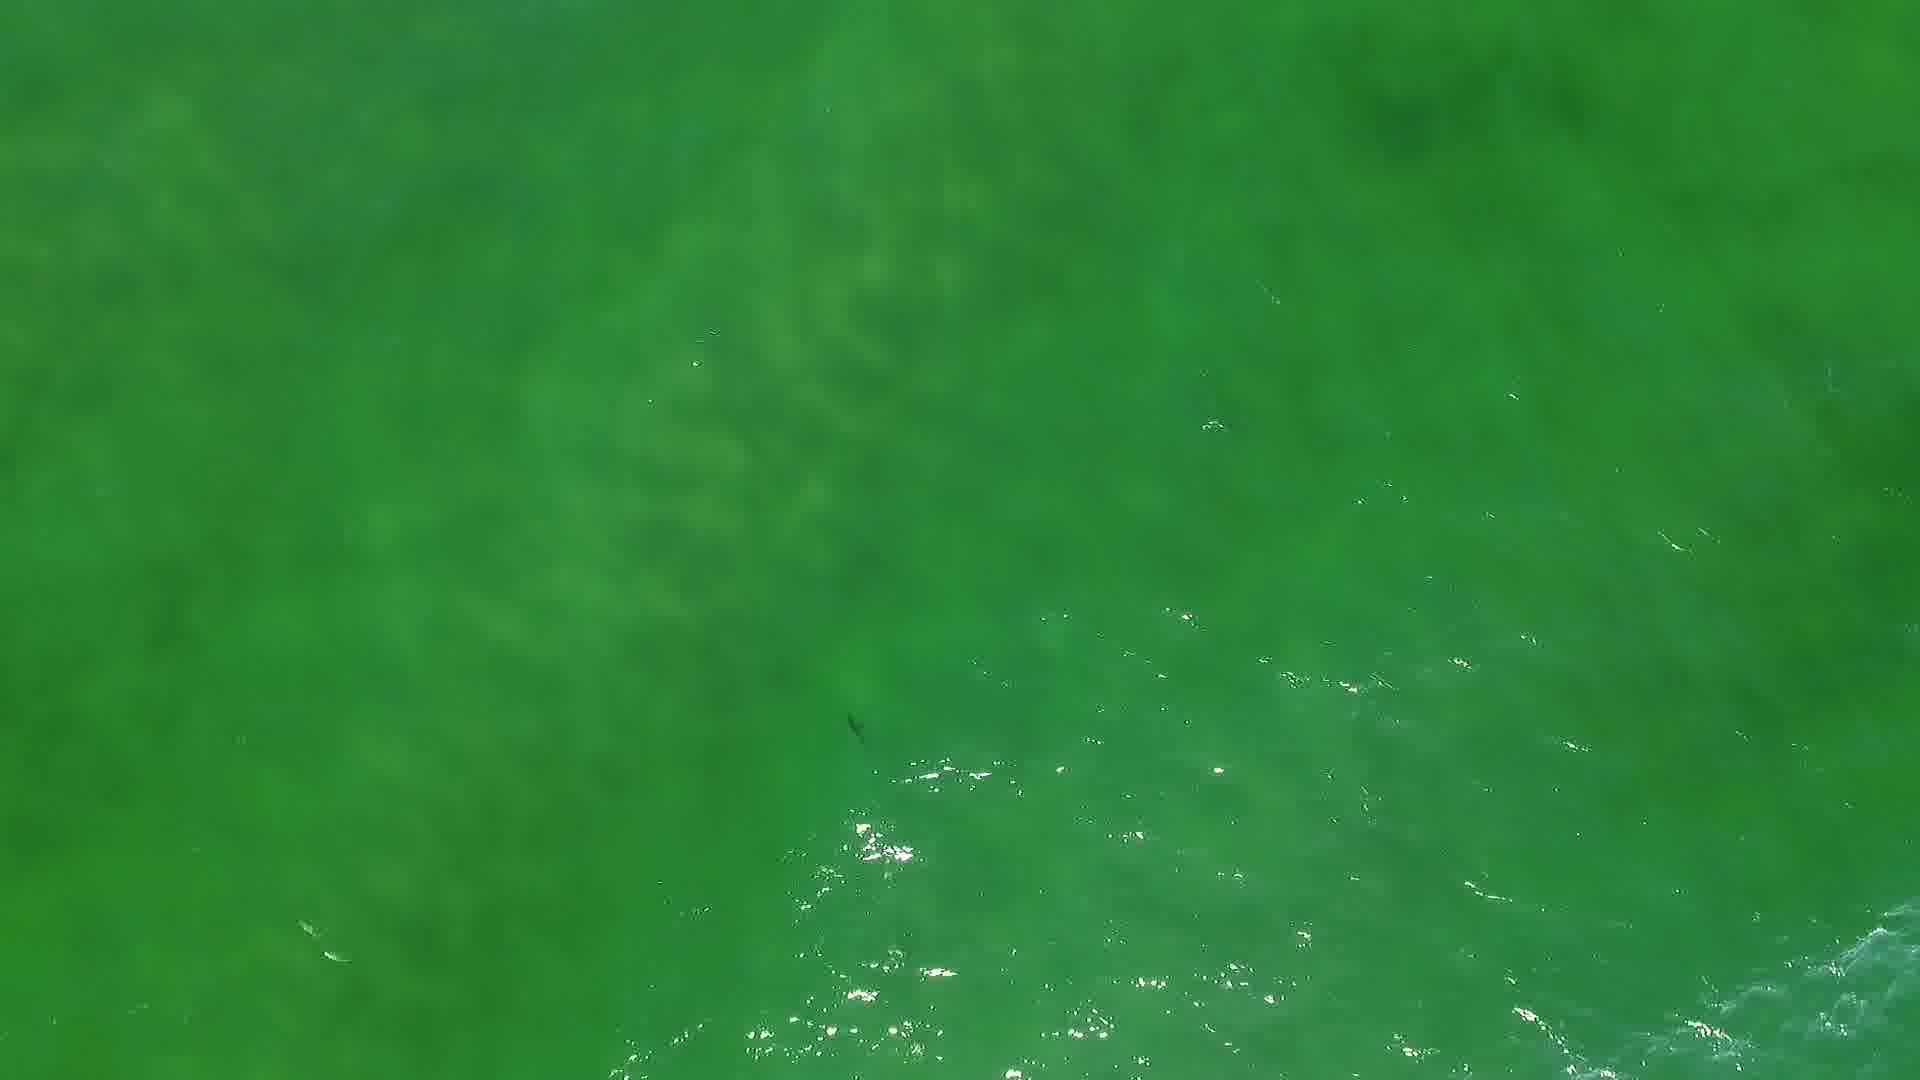shark: (843, 709, 876, 749)
